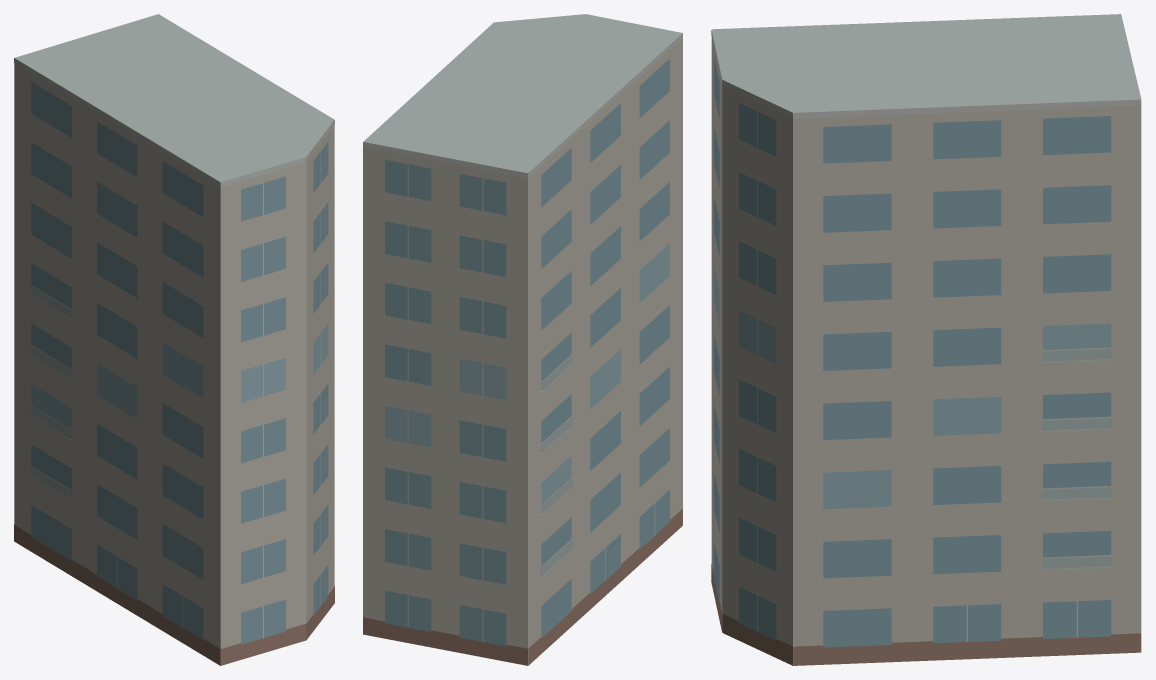
The model's file is survey-upis-32654931.glb.
The picture shows the model from 3 angles, left to right: view 1: azimuth 30°, elevation 25°; view 2: azimuth 150°, elevation 25°; view 3: azimuth 270°, elevation 25°; orthographic projection. The views are drawn at different scales.
Visible parts, largest first — view 1: survey-upis-32654931.tmp; view 2: survey-upis-32654931.tmp; view 3: survey-upis-32654931.tmp.
Part boxes in pixels (x1,y1,x2,y2): survey-upis-32654931.tmp: (14,14,334,665); survey-upis-32654931.tmp: (363,14,682,665); survey-upis-32654931.tmp: (711,14,1141,665).
Bounding box in the file's own units: 8.75 × 22.8 × 16.08.
